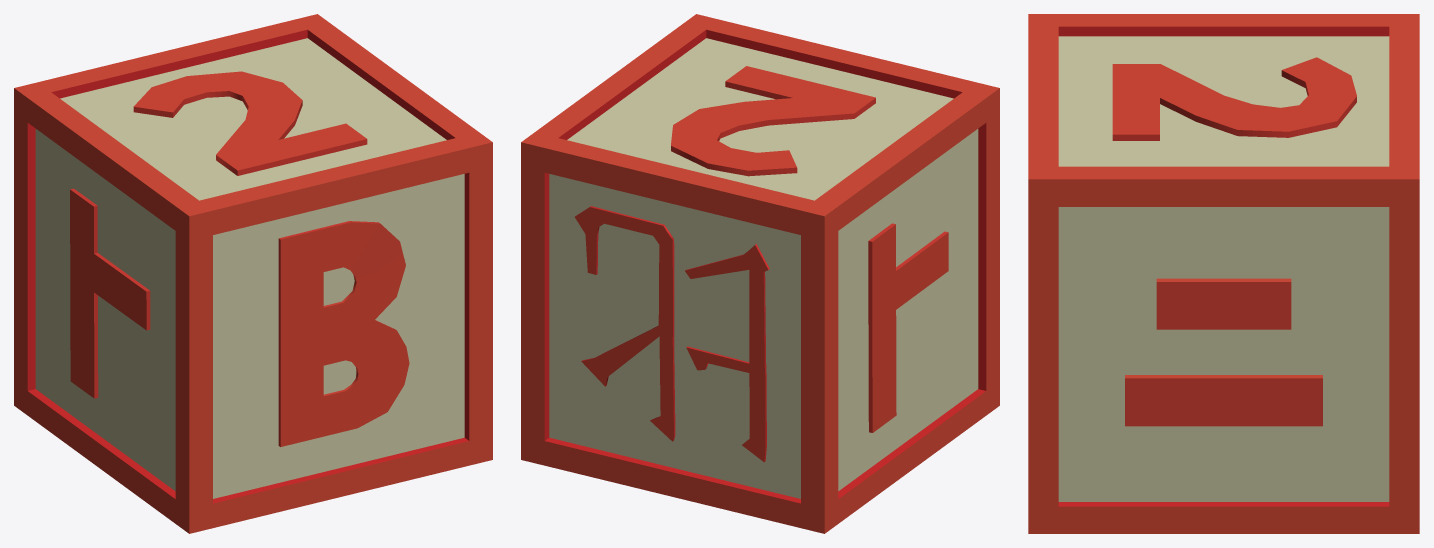
The model's file is human-toys-alphabet-block_v1.fbx.
3 views of the same model, side by side, from view 1: azimuth 30°, elevation 25°; view 2: azimuth 150°, elevation 25°; view 3: azimuth 270°, elevation 25° (orthographic). The views are drawn at different scales.
Visible parts, largest first — view 1: Alphabet Block_v1; view 2: Alphabet Block_v1; view 3: Alphabet Block_v1.
Boxes of the visible parts, x1,y1,x2,y2 form: Alphabet Block_v1: (14,14,492,533); Alphabet Block_v1: (521,14,999,533); Alphabet Block_v1: (1028,14,1419,533).
Bounding box in the file's own units: 0.05 × 0.05 × 0.05.
